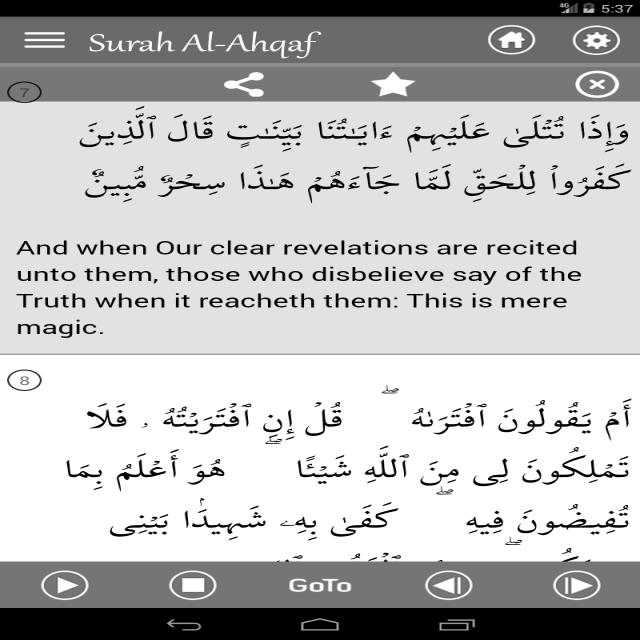TextView: (73, 108, 619, 199), (18, 236, 606, 320)
